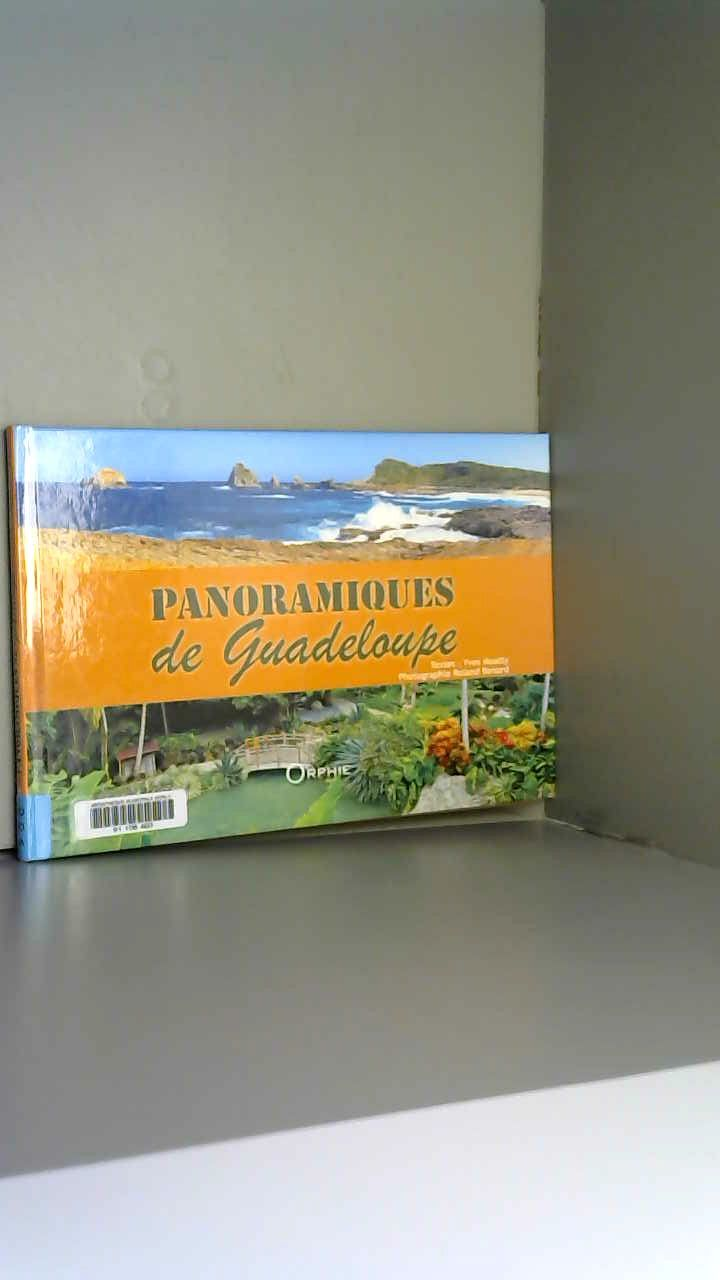book: (0, 389, 595, 879)
